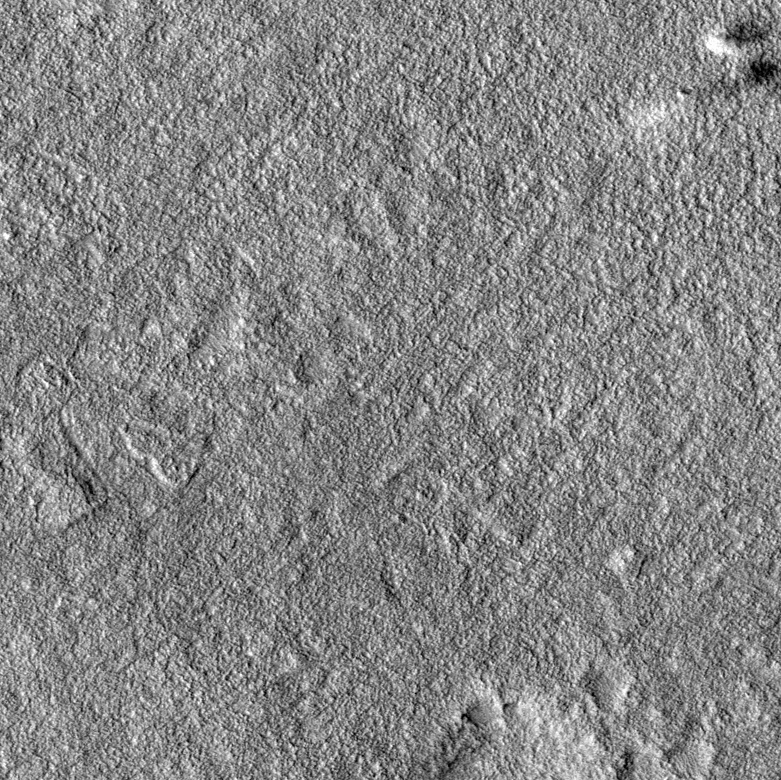dust_devil: (626, 58, 781, 130), (703, 15, 775, 57)
